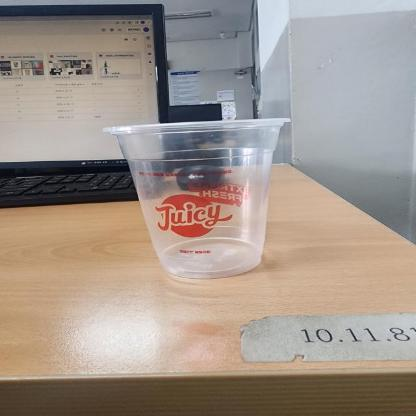Plastic Cup: (100, 117, 294, 278)
